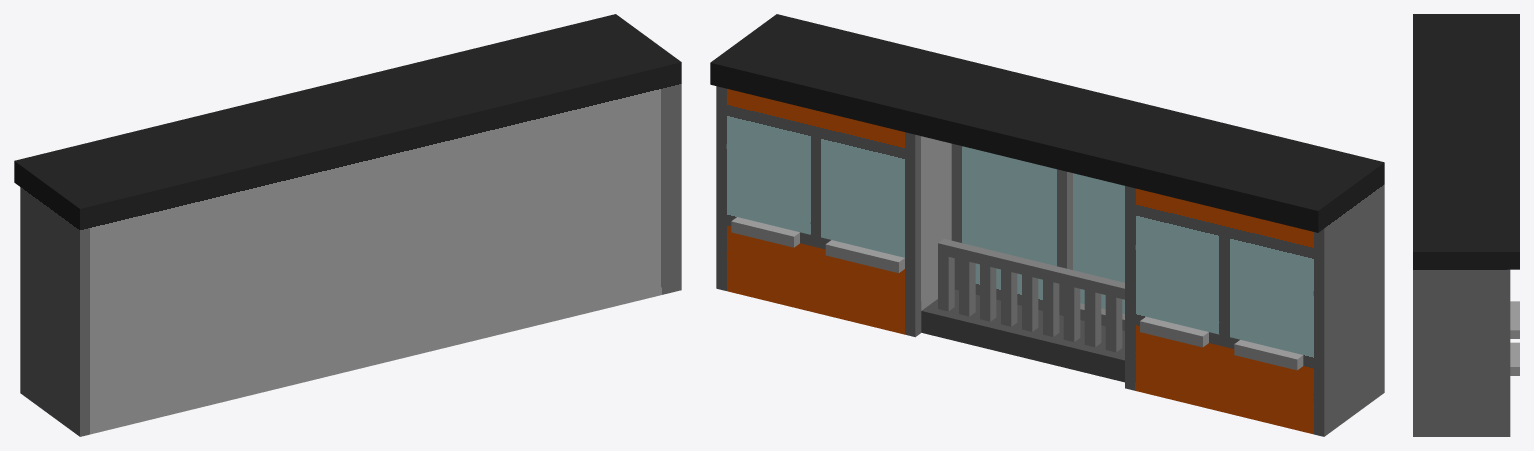
The model's file is obj_floor1a.dae.
3 renders of one model, left to right at view 1: azimuth 30°, elevation 25°; view 2: azimuth 150°, elevation 25°; view 3: azimuth 270°, elevation 25°, orthographic. The views are drawn at different scales.
Visible parts, largest first — view 1: obj_floor1; view 2: obj_floor1; view 3: obj_floor1.
Boxes of the visible parts, x1,y1,x2,y2 form: obj_floor1: (14, 14, 681, 436); obj_floor1: (710, 14, 1384, 436); obj_floor1: (1413, 14, 1519, 436).
Size of the model in its own units: 5.8 by 1.1 by 2.1.
Materials: 1 (1 with a texture image).
